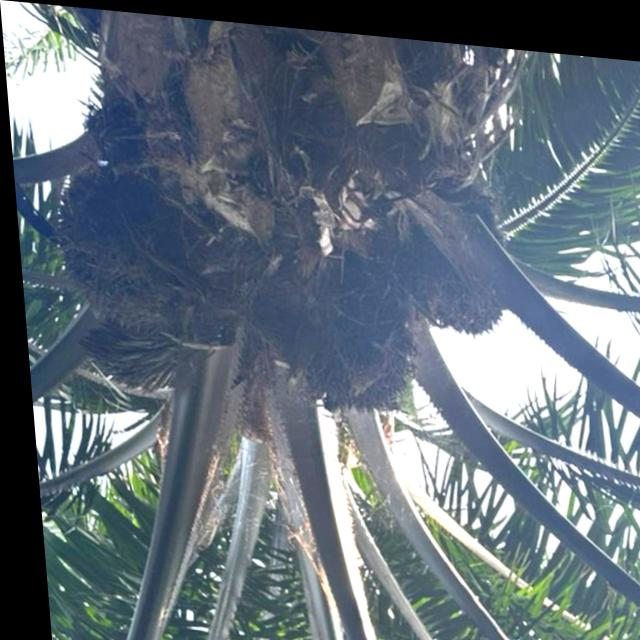unripe: (271, 260, 425, 423), (403, 228, 509, 339)
